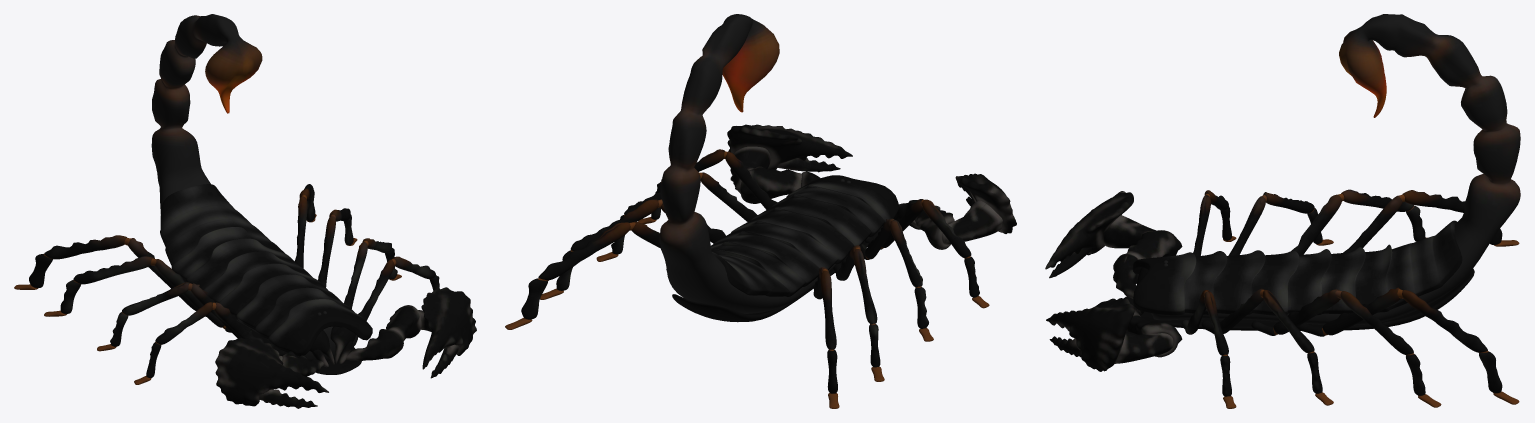
The model's file is scorpion-transformed.glb.
The picture shows the model from 3 angles, left to right: view 1: azimuth 30°, elevation 25°; view 2: azimuth 150°, elevation 25°; view 3: azimuth 270°, elevation 25°; orthographic projection. The views are drawn at different scales.
Parts seen in each view (by area): view 1: Cube.001, Cube.007, Cube, Cube.002, Cube.005, Cube.003, Cube.004; view 2: Cube, Cube.007, Cube.001, Cube.005, Cube.002, Cube.004, Cube.003; view 3: Cube.001, Cube.007, Cube, Cube.002, Cube.005, Cube.004, Cube.003.
Part boxes in pixels (box(x1,y1,x2,y2)): Cube.001: box(160, 184, 372, 356); Cube.007: box(14, 184, 440, 384); Cube: box(151, 14, 358, 361); Cube.002: box(215, 287, 476, 406); Cube.005: box(279, 305, 431, 376); Cube.003: box(259, 341, 459, 408); Cube.004: box(237, 321, 361, 374); Cube: box(659, 14, 836, 313); Cube.007: box(505, 149, 989, 408); Cube.001: box(666, 175, 899, 296); Cube.005: box(730, 146, 1002, 249); Cube.002: box(727, 124, 1016, 233); Cube.004: box(672, 226, 882, 322); Cube.003: box(778, 157, 974, 206); Cube.001: box(1133, 220, 1462, 315); Cube.007: box(1181, 189, 1519, 408); Cube: box(1151, 14, 1520, 325); Cube.002: box(1045, 191, 1148, 371); Cube.005: box(1103, 215, 1182, 363); Cube.004: box(1123, 268, 1474, 330); Cube.003: box(1049, 247, 1144, 357).
Bounding box in the file's own units: 206 × 173 × 242.
6 materials, 6 textured.
